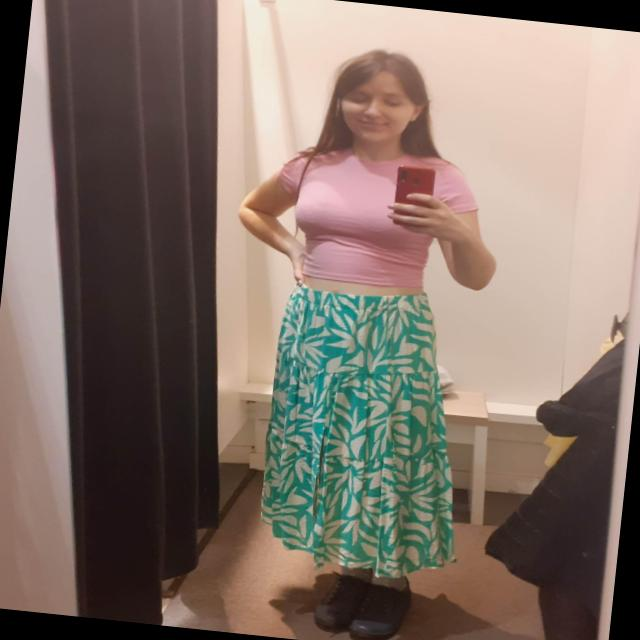Tshirt: (268, 139, 484, 296)
skirt: (253, 277, 483, 586)
